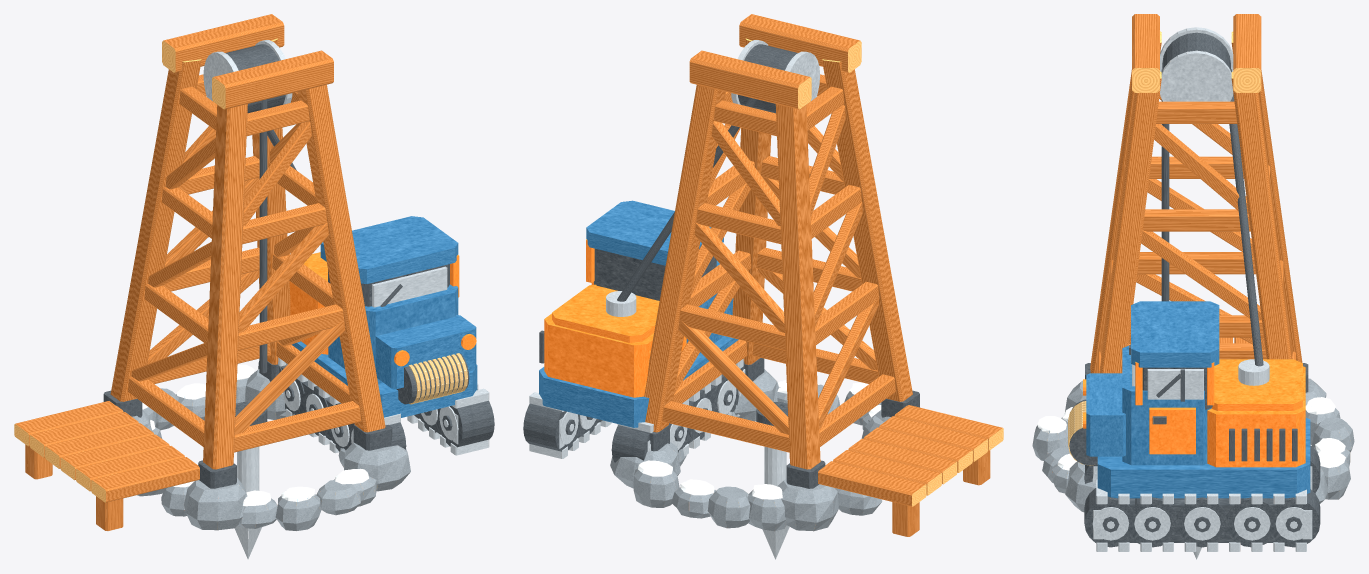
The model's file is shore_quarry_drill.glb.
3 renders of one model, left to right at view 1: azimuth 30°, elevation 25°; view 2: azimuth 150°, elevation 25°; view 3: azimuth 270°, elevation 25°, orthographic.
Visible parts, largest first — view 1: Frame, DrillHead; view 2: Frame, DrillHead; view 3: Frame.
Part boxes in pixels (box(x1,y1,x2,y2)): Frame: box(14, 14, 494, 530); DrillHead: box(234, 402, 267, 559); Frame: box(523, 14, 1003, 536); DrillHead: box(756, 402, 789, 559); Frame: box(1032, 14, 1354, 551).
Bounding box in the file's own units: 2.73 × 3.51 × 1.97.
Materials: 1 (1 with a texture image).
